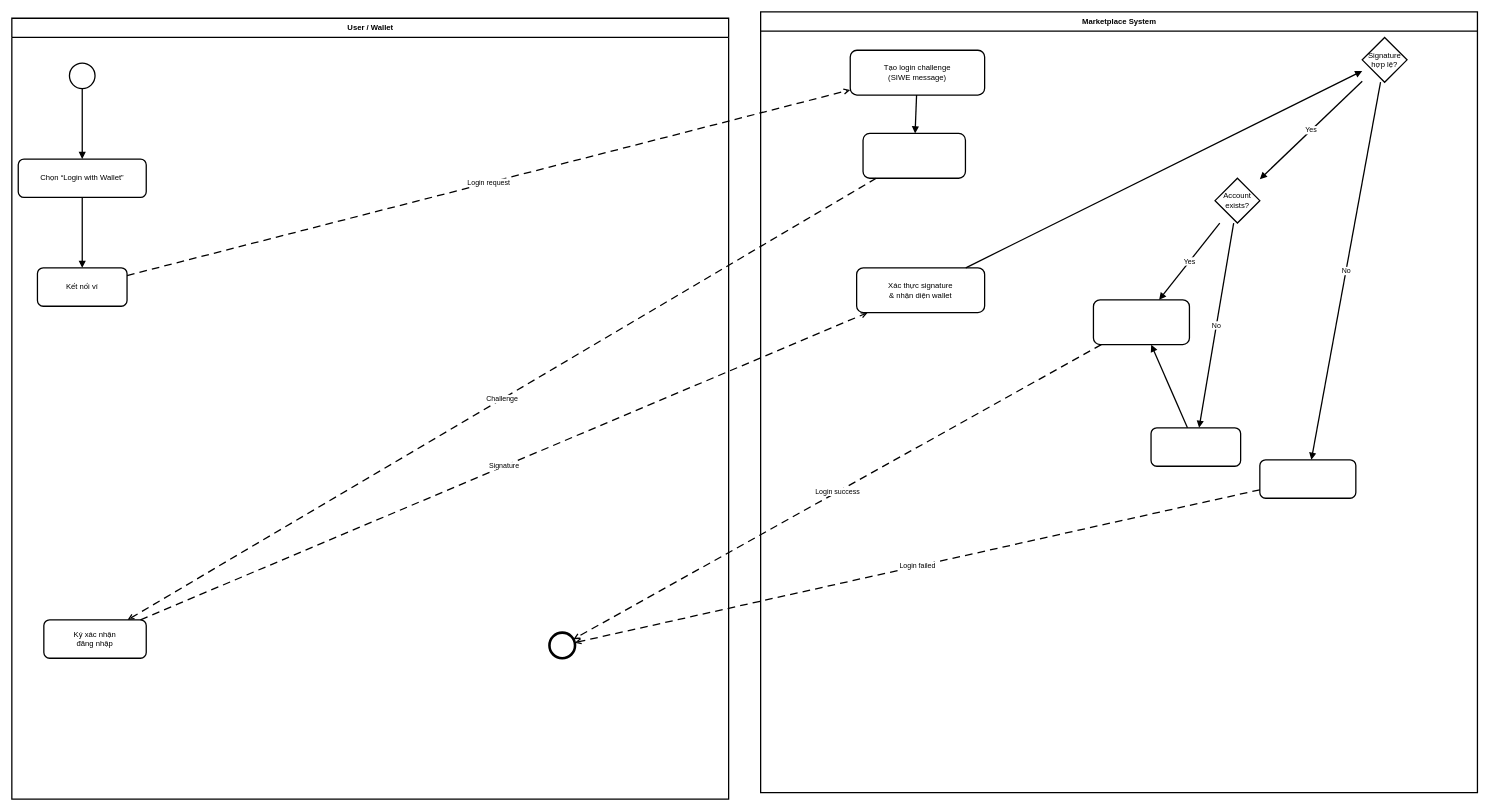
This 1489x810 diagram has some shape labels left out. The box of each missing label's shape, as (x1, y1, x2, y2) in pixels:
Gửi challenge cho user: (862, 132, 966, 179)
Thông báo login failed: (1259, 459, 1356, 499)
Tạo session (trả token): (1092, 299, 1190, 345)
Tạo user mới: (1150, 427, 1241, 467)
